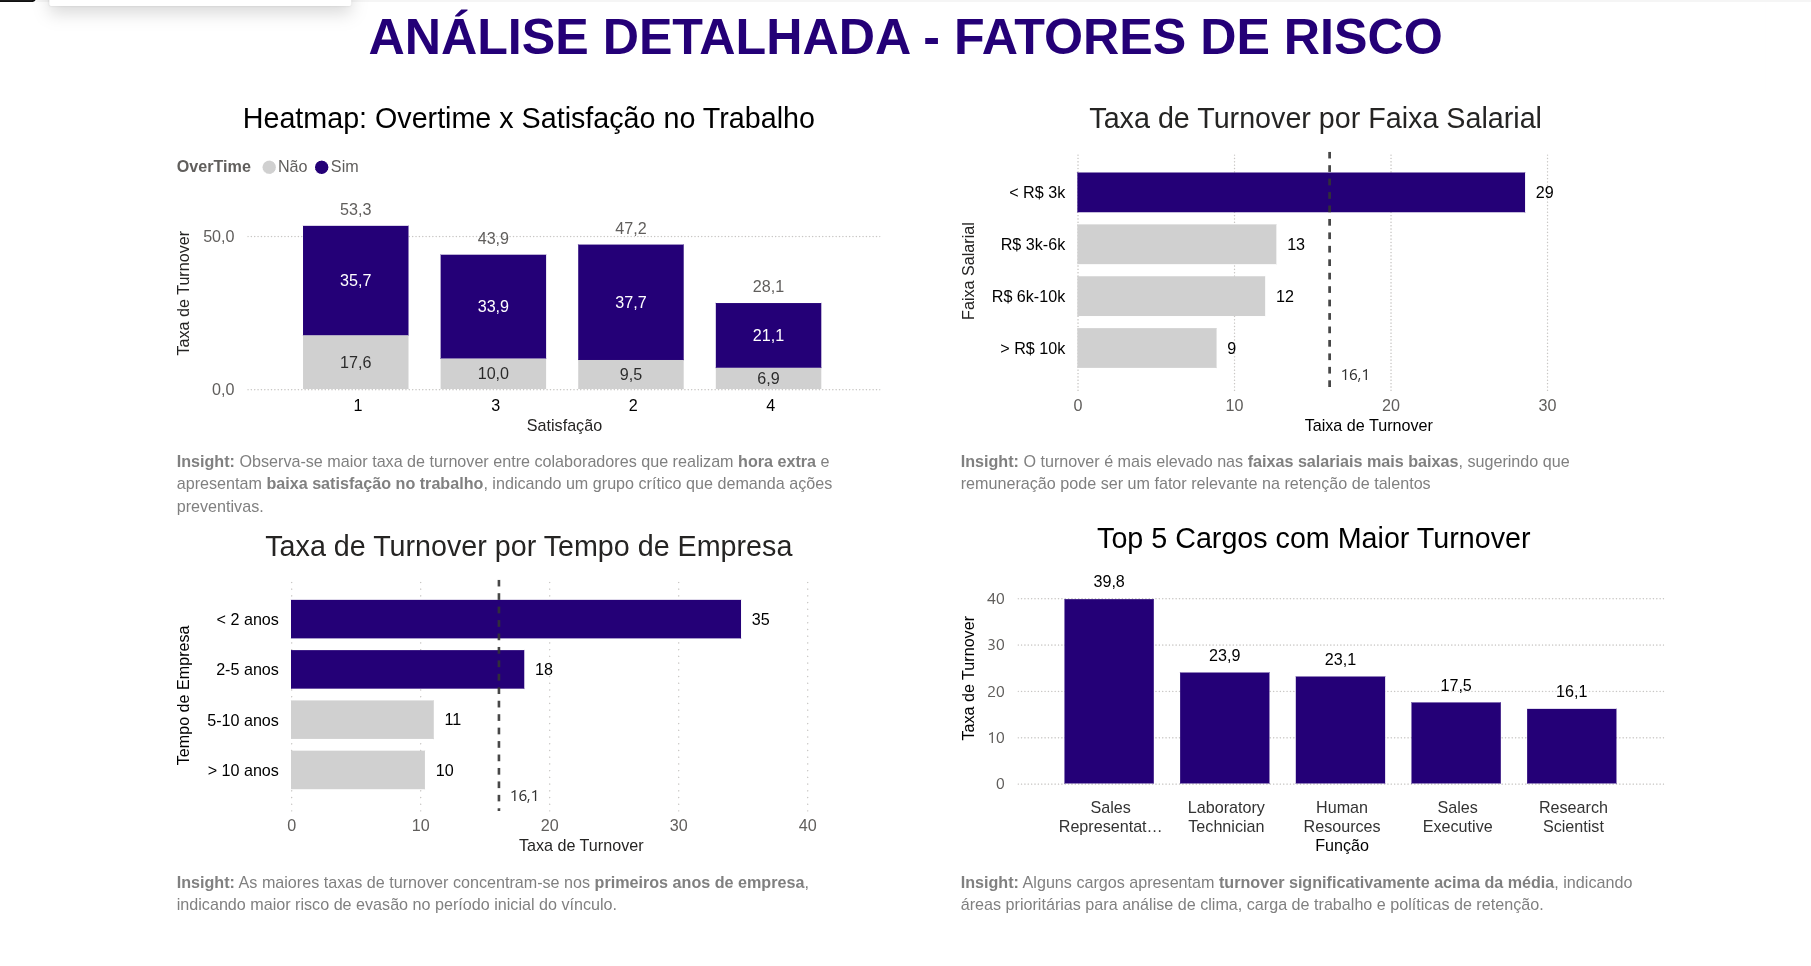

This screenshot's page, from the dashboard's own definition file:
{"tool":"powerbi","page":{"name":"Análise Detalhada","canvas":[1280,720],"ordinal":1},"visuals":[{"type":"textbox","box":[0,0,1280.3,67.2],"z":0},{"type":"columnChart","title":"Heatmap: Overtime x Satisfação no Trabalho","fields":{"Category":["WA_Fn-UseC_-HR-Employee-Attrition.JobSatisfaction"],"Y":["WA_Fn-UseC_-HR-Employee-Attrition.Taxa_Turnover"],"Series":["WA_Fn-UseC_-HR-Employee-Attrition.OverTime"]},"box":[93.3,74.1,533.8,252.5],"z":1000},{"type":"clusteredBarChart","title":"Taxa de Turnover por Faixa Salarial","fields":{"Category":["WA_Fn-UseC_-HR-Employee-Attrition.Faixa_Salarial"],"Y":["WA_Fn-UseC_-HR-Employee-Attrition.Taxa_Turnover"]},"box":[676.5,74.1,536.5,252.5],"z":2000},{"type":"clusteredColumnChart","title":"Top 5 Cargos com Maior Turnover","fields":{"Category":["WA_Fn-UseC_-HR-Employee-Attrition.JobRole"],"Y":["WA_Fn-UseC_-HR-Employee-Attrition.Taxa_Turnover"]},"box":[676.5,387,533.8,252.5],"z":3000},{"type":"textbox","box":[92.9,326.5,534.4,66],"z":4000},{"type":"textbox","box":[676.2,326.5,534.4,47.7],"z":5000},{"type":"textbox","box":[676.2,639.5,536.8,55],"z":6000},{"type":"clusteredBarChart","title":"Taxa de Turnover por Tempo de Empresa","fields":{"Category":["WA_Fn-UseC_-HR-Employee-Attrition.Tempo_Empresa"],"Y":["WA_Fn-UseC_-HR-Employee-Attrition.Taxa_Turnover"]},"box":[93.3,392.4,533.8,247],"z":7000},{"type":"textbox","box":[92.9,639.5,534.4,55],"z":8000}]}

Visuals, with their boxes on the page's 1280x720 design canvas (x1, y1, x2, y2). These are canvas units, not pixel positions in the 1811x966 screenshot, which may show the page scaled, cropped or inside an application window:
textbox: crop(0, 0, 1280, 67)
"Heatmap: Overtime x Satisfação no Trabalho" columnChart: crop(93, 74, 627, 327)
"Taxa de Turnover por Faixa Salarial" clusteredBarChart: crop(676, 74, 1213, 327)
"Top 5 Cargos com Maior Turnover" clusteredColumnChart: crop(676, 387, 1210, 640)
textbox: crop(93, 326, 627, 392)
textbox: crop(676, 326, 1211, 374)
textbox: crop(676, 640, 1213, 694)
"Taxa de Turnover por Tempo de Empresa" clusteredBarChart: crop(93, 392, 627, 639)
textbox: crop(93, 640, 627, 694)
